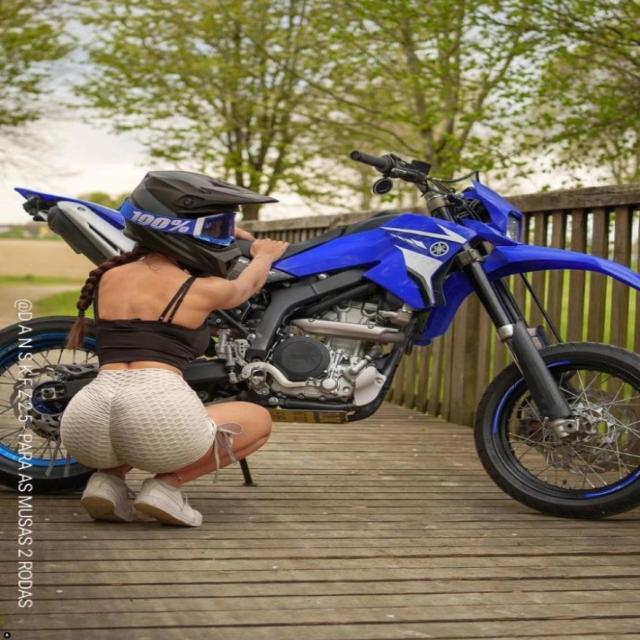illegal_helmet: (114, 167, 282, 280)
